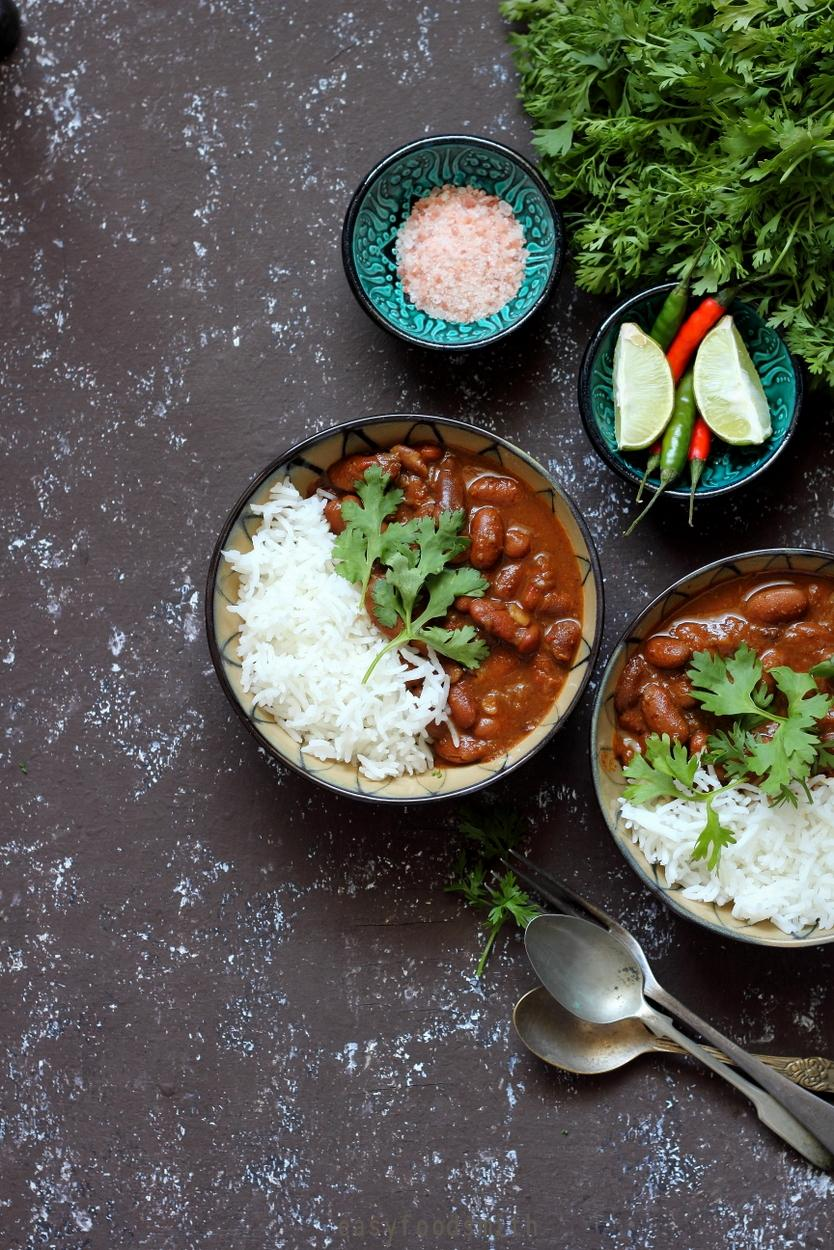rajma: (427, 460, 553, 757), (643, 603, 834, 767)
rice: (230, 540, 380, 807), (653, 797, 834, 943)
